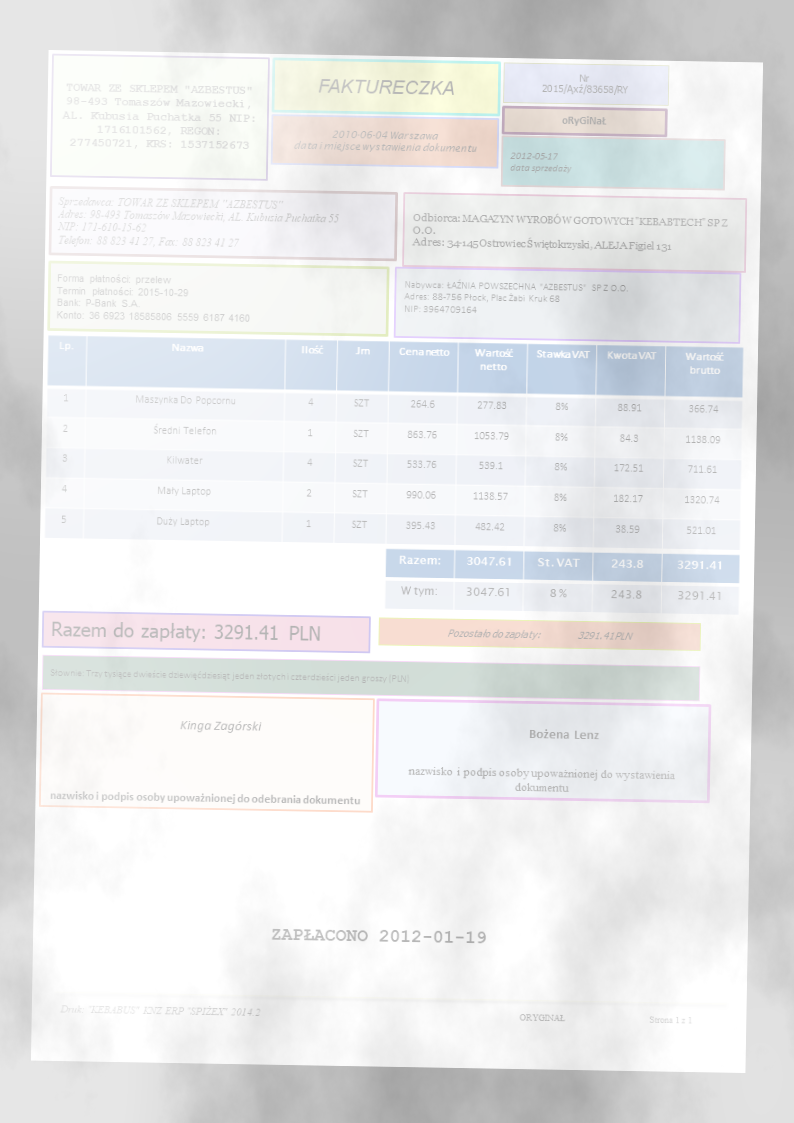Table: (44, 334, 745, 551), (384, 546, 740, 616)
TextBox: (56, 192, 340, 250), (410, 210, 729, 255), (59, 81, 257, 151), (55, 272, 253, 324), (400, 277, 631, 319), (407, 764, 676, 796), (49, 666, 411, 686), (50, 617, 322, 643), (47, 786, 360, 808), (292, 127, 480, 155), (270, 924, 488, 946), (58, 1001, 263, 1020), (445, 625, 635, 644), (316, 74, 457, 98), (518, 1011, 693, 1027), (540, 70, 631, 96), (177, 716, 263, 735), (508, 149, 573, 174), (527, 726, 602, 743), (560, 113, 608, 127)
